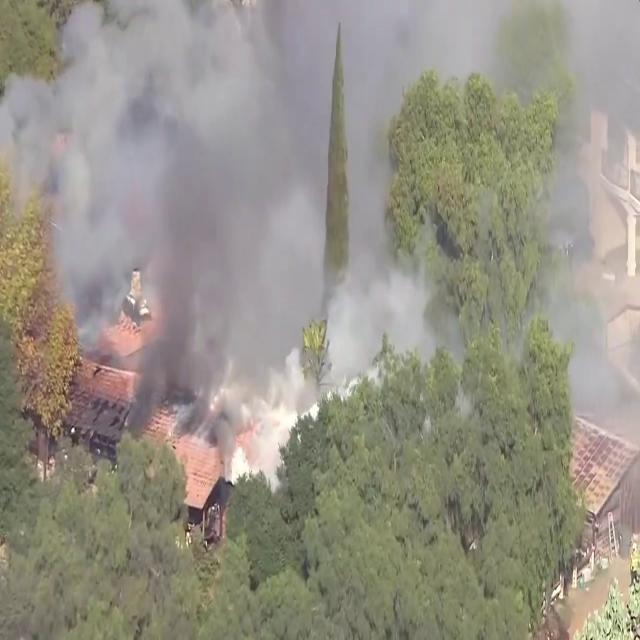Smoke: (1, 1, 358, 397), (542, 0, 638, 431)
